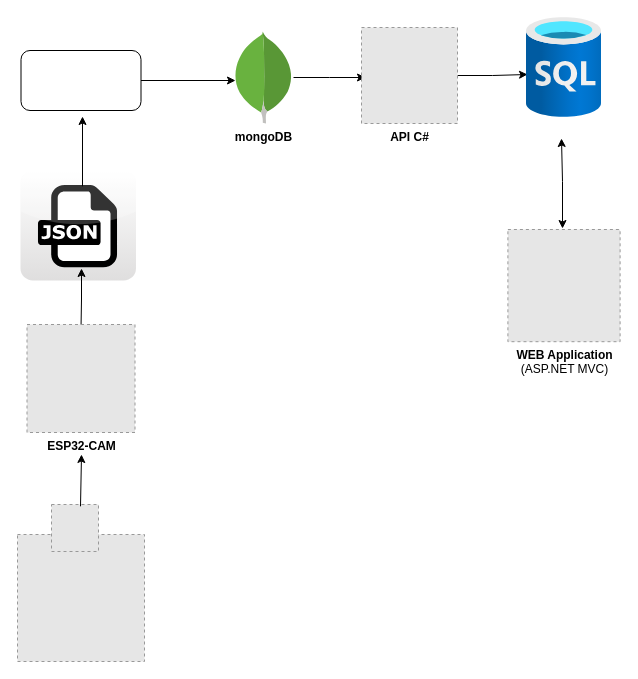
This 638x679 diagram has some shape labels left out. Grey dashed boxes stand in for pictures. The shapes that lost their labels are listed below. From the top down, each one's centre as x and y in pixels, then its label:
At point 80,80: "HELIX (FIWARE Broker)".
At point 563,67: "SQL Server".
